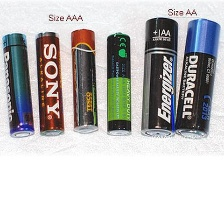battery: (172, 15, 222, 140), (140, 13, 178, 140), (1, 30, 35, 140), (33, 29, 65, 140), (68, 24, 99, 134), (103, 29, 134, 138)
